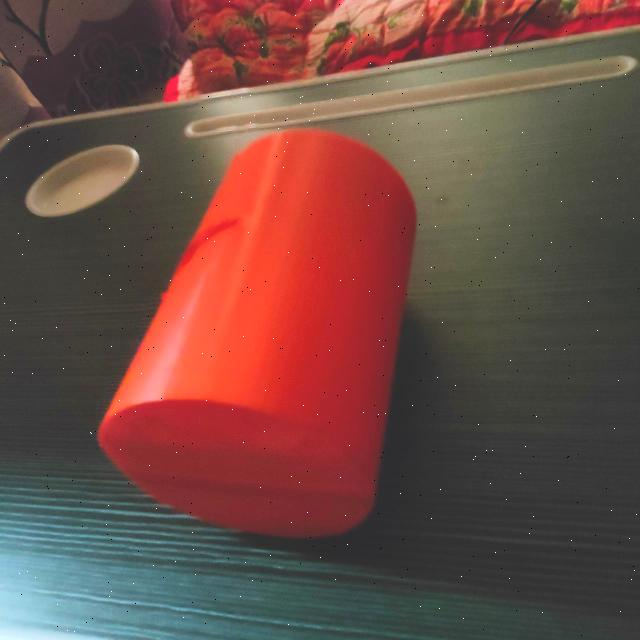Cylinder: (96, 127, 418, 539)
